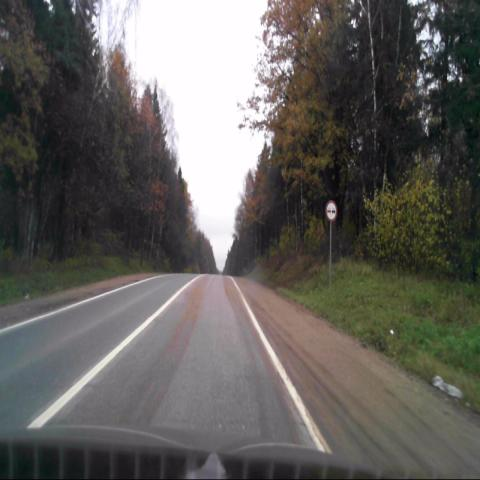3_20: (325, 200, 336, 221)
